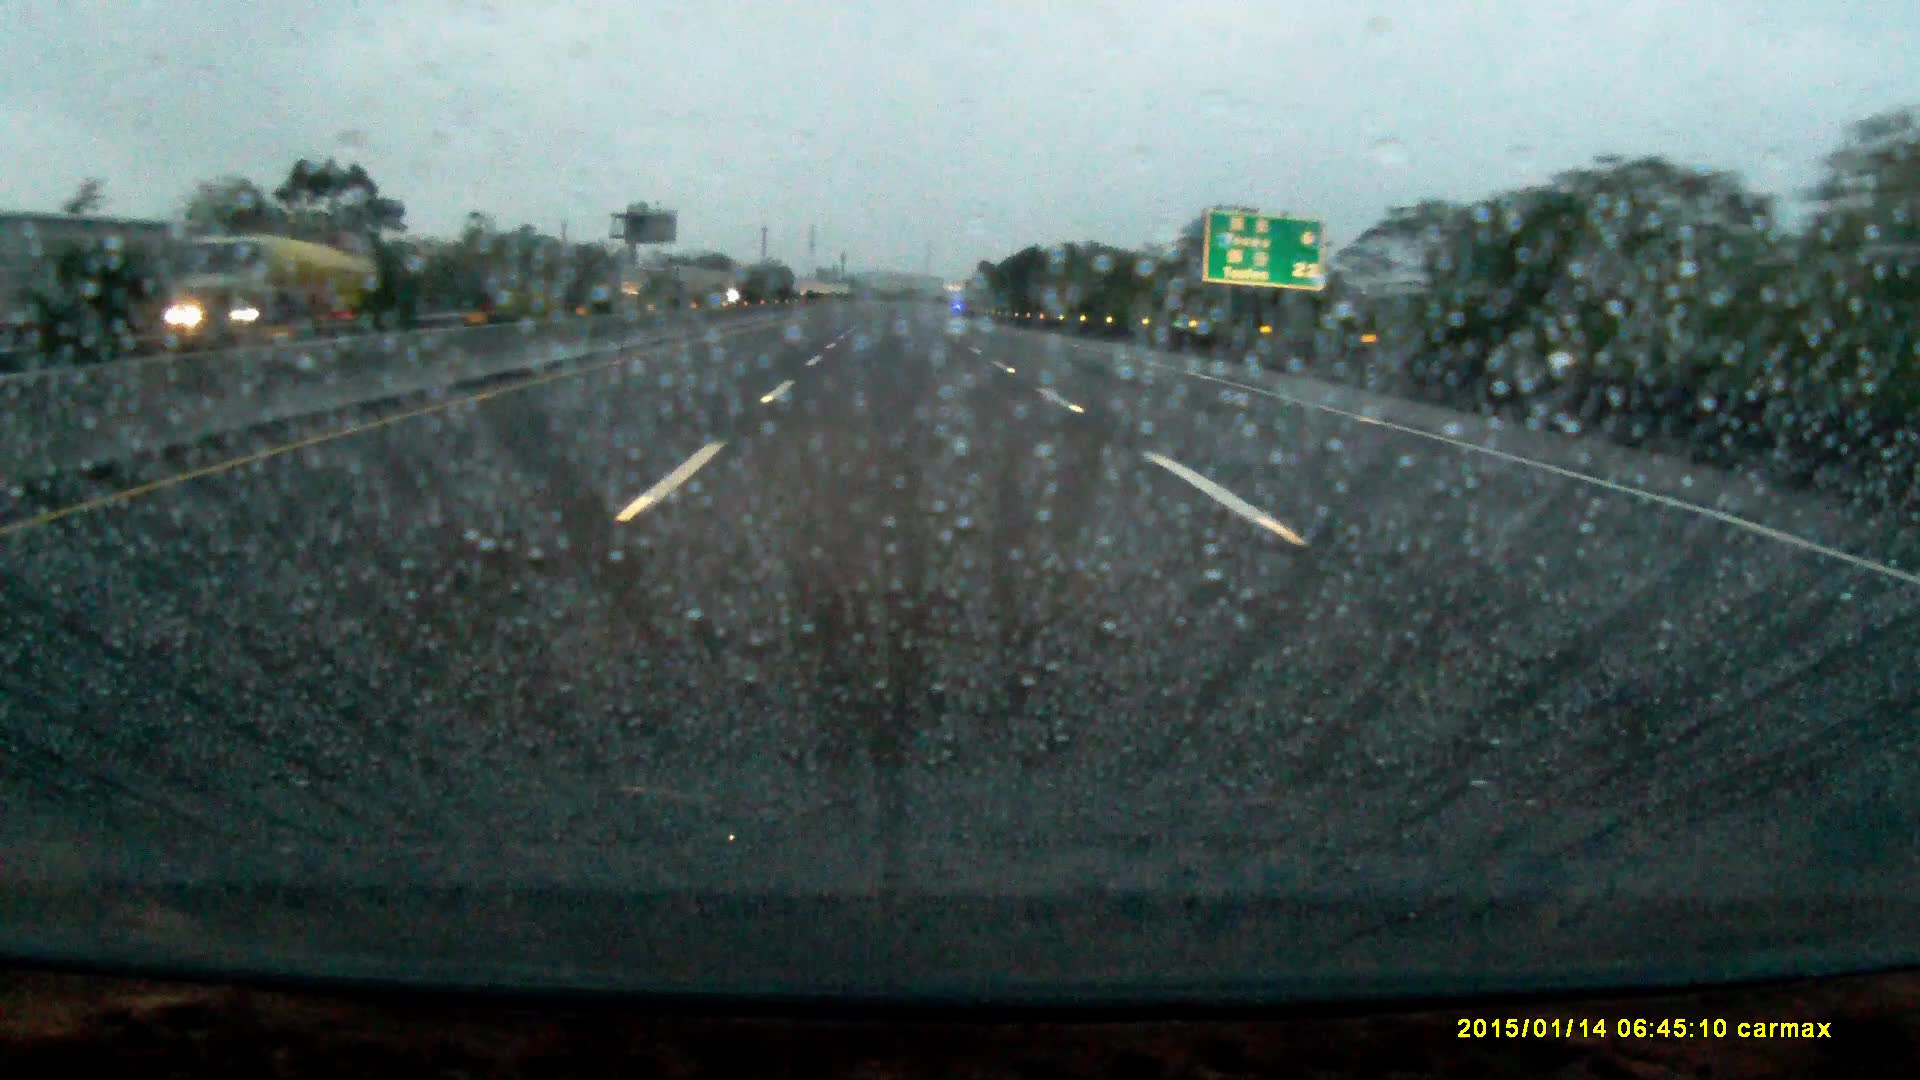vehicle: (135, 239, 353, 326), (160, 291, 298, 338)
